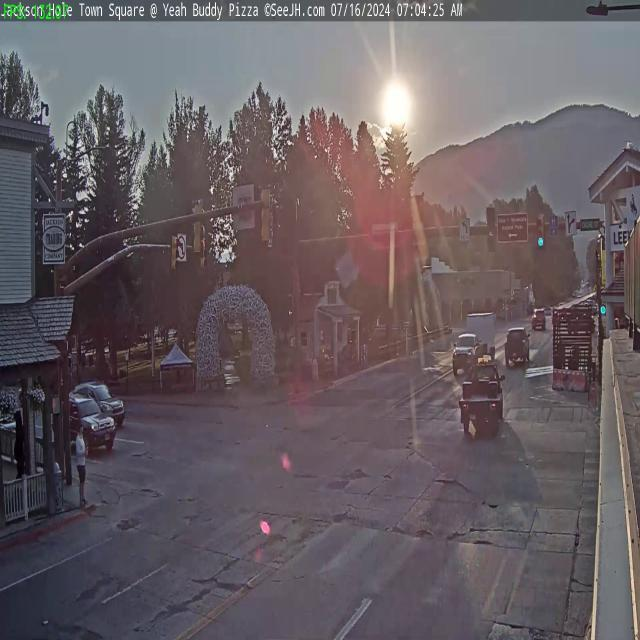motorcycle: (75, 422, 89, 501)
person: (450, 332, 482, 374), (504, 326, 530, 362)
sedan: (60, 398, 114, 455), (74, 378, 128, 427), (532, 305, 546, 329)
suv: (259, 183, 274, 245), (192, 200, 204, 256), (488, 205, 498, 254), (199, 235, 209, 269), (536, 215, 546, 249), (170, 234, 178, 274)
traffic light: (461, 362, 501, 436)
